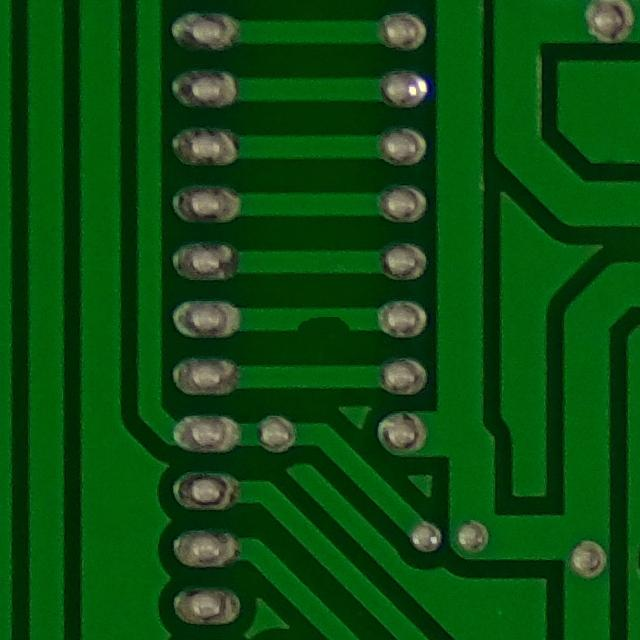mouse_bite: (276, 295, 365, 345)
